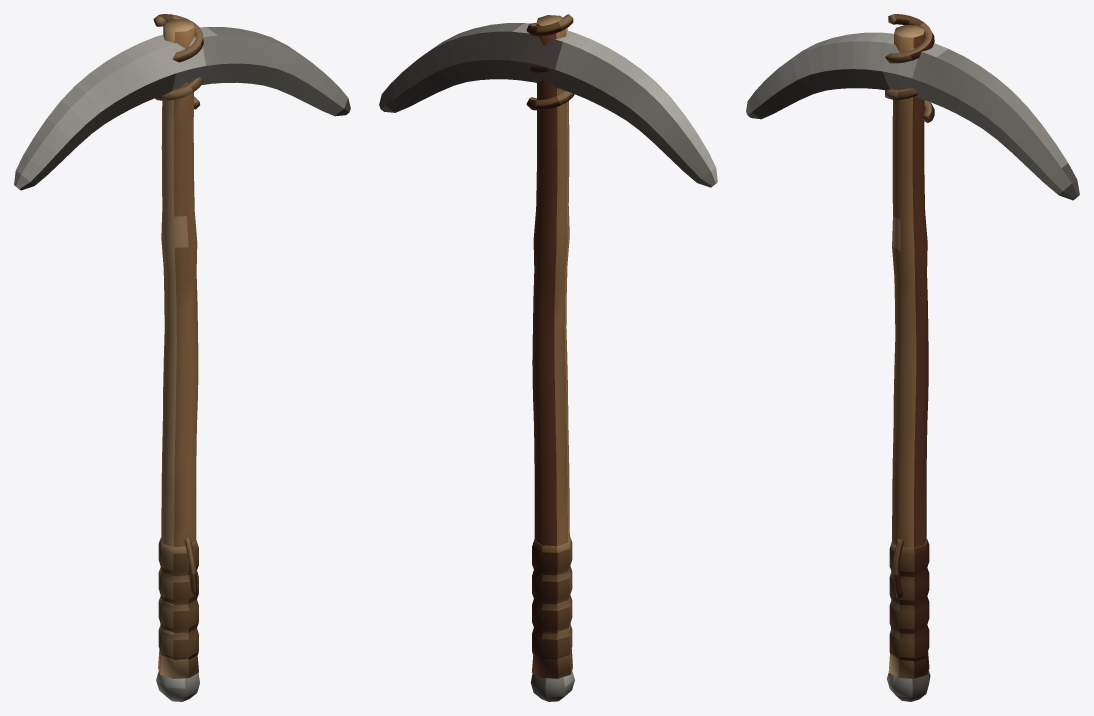
The model's file is tl_pickaxe_stone.glb.
3 views of the same model, side by side, from view 1: azimuth 30°, elevation 25°; view 2: azimuth 150°, elevation 25°; view 3: azimuth 330°, elevation 25° (orthographic).
Parts seen in each view (by area): view 1: Weapon; view 2: Weapon; view 3: Weapon.
Boxes of the visible parts, x1=… form: Weapon: x1=14, y1=14, x2=350, y2=701; Weapon: x1=379, y1=14, x2=717, y2=701; Weapon: x1=746, y1=14, x2=1079, y2=701.
Bounding box in the file's own units: 0.4567 × 0.8952 × 0.0667.
